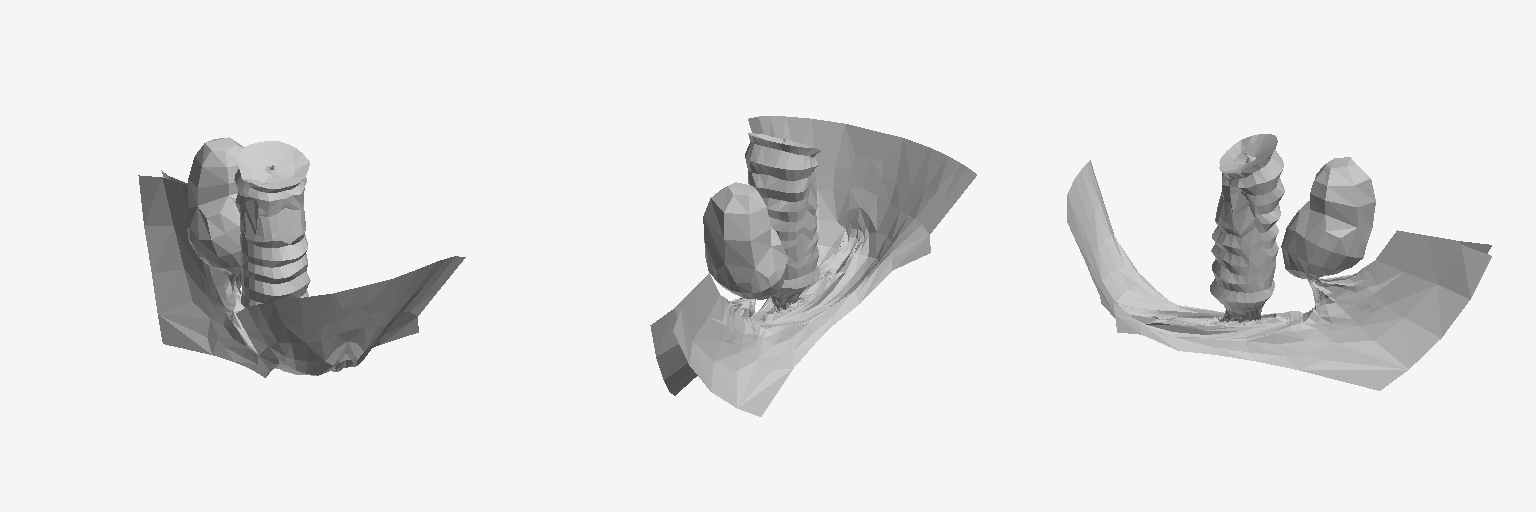
File: zoe.g8.3.4.10.genital.1.obj
The picture shows the model from 3 angles: view 1: azimuth 30°, elevation 25°; view 2: azimuth 150°, elevation 25°; view 3: azimuth 270°, elevation 25°; orthographic projection.
Parts seen in each view (by area): view 1: GoldenPalace_2254; view 2: GoldenPalace_2254; view 3: GoldenPalace_2254.
Boxes of the visible parts, x1,y1,x2,y2 form: GoldenPalace_2254: [138, 137, 465, 377]; GoldenPalace_2254: [650, 116, 976, 416]; GoldenPalace_2254: [1067, 134, 1491, 390].
Size of the model in its own units: 12.09 by 11.46 by 19.35.